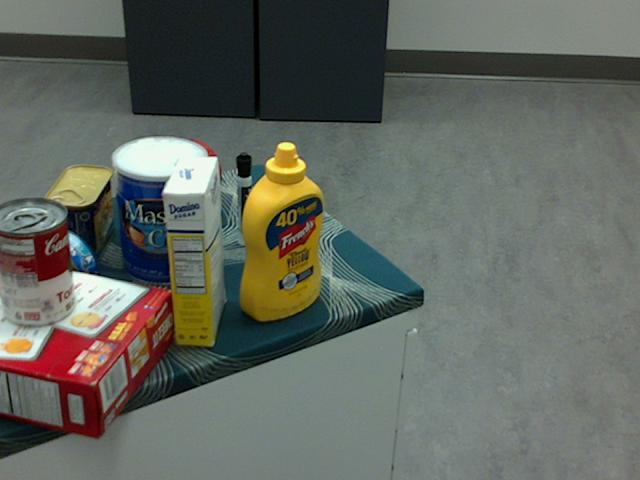cracker_box: (0, 254, 172, 438)
large_marker: (236, 151, 253, 245)
master_chef_can: (110, 135, 207, 286)
mug: (129, 139, 220, 219)
mustard_bottle: (238, 140, 324, 320)
potted_meat_can: (44, 163, 113, 266)
sugar_box: (161, 154, 226, 346)
tomato_soup_can: (0, 197, 74, 327)
tuna_fish_can: (14, 228, 98, 312)
